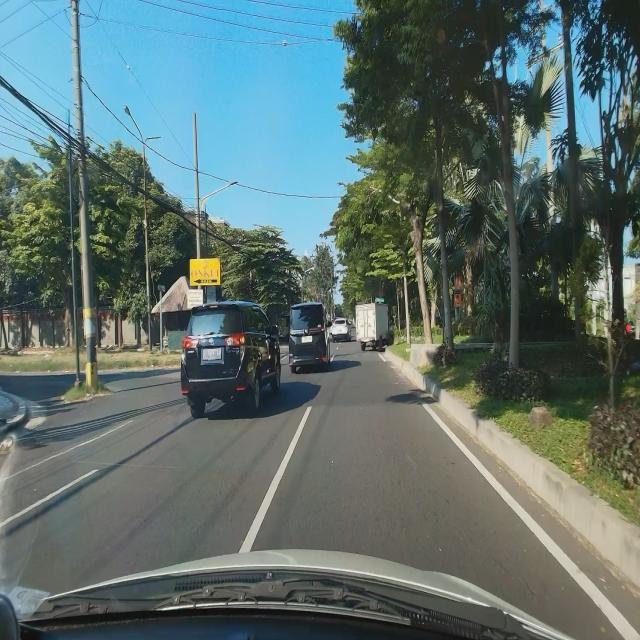car: (180, 296, 282, 421), (288, 300, 331, 375)
license-plate: (202, 347, 222, 361), (301, 335, 313, 344)
truck: (355, 303, 395, 352)
